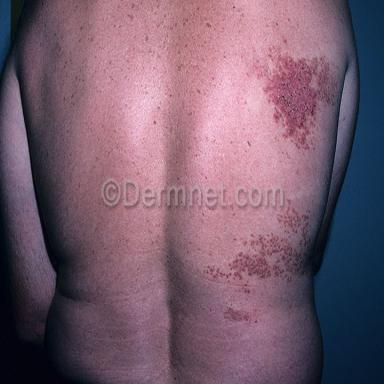Darier_s-Disease: (204, 205, 310, 297), (251, 46, 339, 153), (223, 307, 251, 323)
